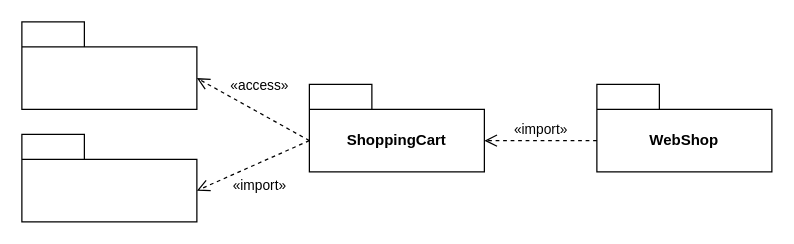
Image size: 794x244. Some labels were removed from this diagram. The centre of each missing label's shape, as x and y in pixels:
"Auxilary" goes at point 109,65.
"Types" goes at point 109,177.
